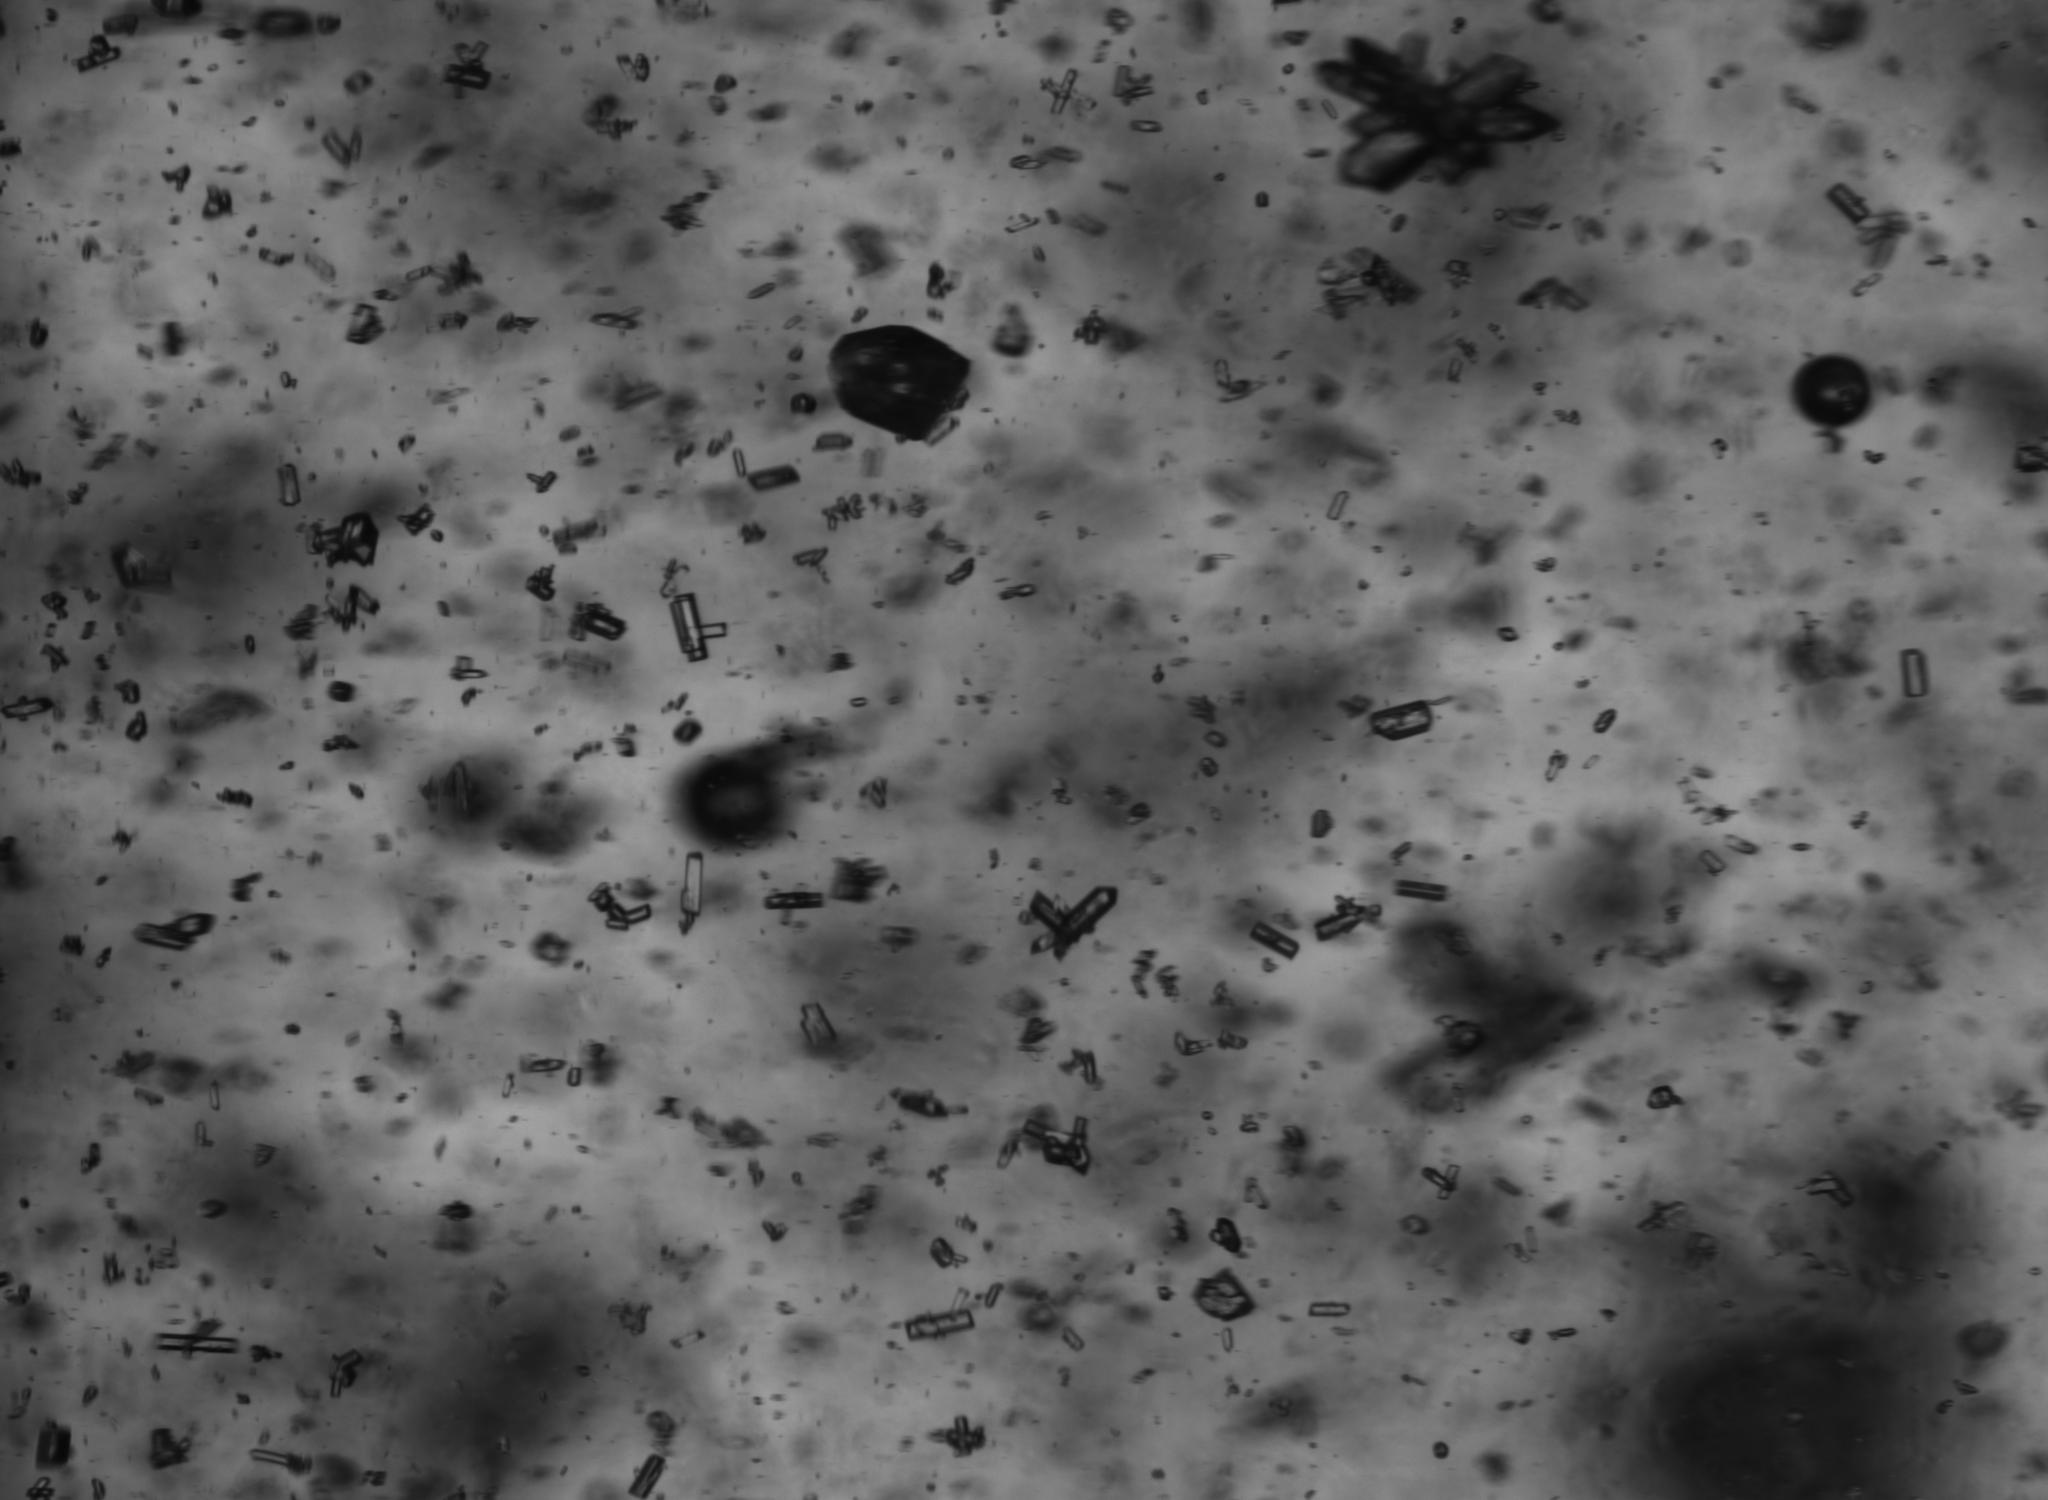bubble: (1792, 355, 1872, 428)
crystal: (1317, 38, 1560, 191), (828, 324, 968, 441), (1022, 888, 1118, 959), (666, 592, 727, 662), (1022, 1118, 1092, 1176), (312, 512, 380, 566), (1193, 1268, 1256, 1322), (134, 911, 216, 951), (1312, 896, 1382, 942), (587, 881, 652, 931), (1040, 68, 1099, 115), (1367, 700, 1433, 741), (903, 1308, 975, 1341), (569, 603, 626, 641), (679, 851, 704, 935), (1825, 183, 1875, 226), (1250, 919, 1301, 959), (1803, 1171, 1854, 1207), (75, 33, 121, 73), (110, 541, 148, 589), (1636, 1201, 1690, 1234), (329, 1347, 364, 1398), (345, 302, 385, 347), (154, 1333, 239, 1354), (343, 584, 378, 633), (33, 1425, 73, 1468), (151, 1427, 189, 1470), (800, 1002, 836, 1047), (630, 1454, 665, 1500), (1113, 64, 1154, 102), (820, 493, 860, 531), (1057, 1047, 1097, 1085), (946, 1416, 984, 1455), (442, 62, 491, 91), (897, 1094, 948, 1121), (1208, 1217, 1243, 1255), (396, 503, 436, 536), (749, 464, 800, 490), (1900, 647, 1926, 698), (0, 697, 54, 719), (525, 563, 555, 603), (448, 654, 490, 682), (1394, 880, 1447, 902), (1073, 310, 1105, 345), (2013, 442, 2048, 474), (321, 132, 351, 169), (495, 310, 541, 334), (452, 40, 490, 68), (202, 185, 234, 218), (924, 415, 956, 447), (615, 52, 649, 83), (859, 775, 887, 810), (159, 162, 191, 192), (1021, 1016, 1056, 1043), (765, 892, 822, 908), (1175, 1032, 1213, 1056), (218, 784, 253, 810), (1436, 1164, 1461, 1199), (1422, 1166, 1456, 1191), (588, 313, 639, 331), (280, 463, 301, 506), (1646, 1085, 1682, 1109), (342, 70, 374, 97), (944, 557, 973, 585), (674, 717, 703, 744), (1326, 490, 1352, 520), (930, 1238, 954, 1269), (1307, 1301, 1350, 1319), (259, 245, 293, 267), (525, 471, 558, 493), (1156, 964, 1178, 997), (1309, 810, 1334, 838), (41, 643, 70, 668), (41, 590, 67, 619), (1592, 708, 1619, 733), (246, 1449, 289, 1465), (1218, 1028, 1247, 1051), (1724, 834, 1755, 854), (196, 1199, 227, 1220), (882, 926, 914, 946), (1697, 849, 1724, 873), (323, 735, 359, 752), (1062, 1325, 1084, 1354), (126, 711, 146, 741), (80, 1144, 100, 1174), (116, 679, 140, 705), (999, 584, 1037, 600), (25, 1478, 54, 1498), (671, 1330, 704, 1347), (793, 549, 827, 566), (1544, 749, 1561, 783), (816, 433, 852, 449), (746, 282, 776, 301), (328, 681, 355, 701), (1003, 216, 1038, 232), (789, 393, 816, 412), (404, 264, 432, 282), (1213, 359, 1231, 388), (614, 736, 636, 759), (59, 934, 81, 956), (949, 1287, 968, 1312), (1127, 119, 1164, 132), (1445, 259, 1469, 278), (984, 1282, 1002, 1308), (714, 75, 739, 92), (1199, 757, 1220, 778), (197, 1123, 215, 1147), (1011, 154, 1040, 169), (208, 1080, 221, 1112), (1709, 439, 1728, 460), (1496, 627, 1520, 643), (529, 1059, 563, 1071), (1509, 1328, 1530, 1346), (1581, 754, 1603, 770), (83, 1385, 99, 1408), (1243, 1179, 1258, 1203), (733, 447, 744, 477), (1205, 730, 1226, 746), (91, 1478, 105, 1500), (1431, 1441, 1449, 1459), (1321, 100, 1337, 119), (81, 620, 97, 639), (1449, 358, 1461, 380), (1051, 778, 1069, 794), (501, 1074, 512, 1098), (1221, 1328, 1232, 1352), (568, 1067, 580, 1088), (348, 784, 364, 800), (43, 622, 59, 638), (245, 635, 256, 655), (1158, 1285, 1172, 1301), (851, 697, 868, 708), (280, 372, 291, 390), (1255, 192, 1267, 207), (1493, 208, 1507, 221), (1240, 1123, 1258, 1133), (1555, 1328, 1576, 1336), (431, 530, 444, 541), (1282, 64, 1293, 75), (1200, 1110, 1212, 1121), (792, 1172, 801, 1183), (1522, 1115, 1533, 1125)
